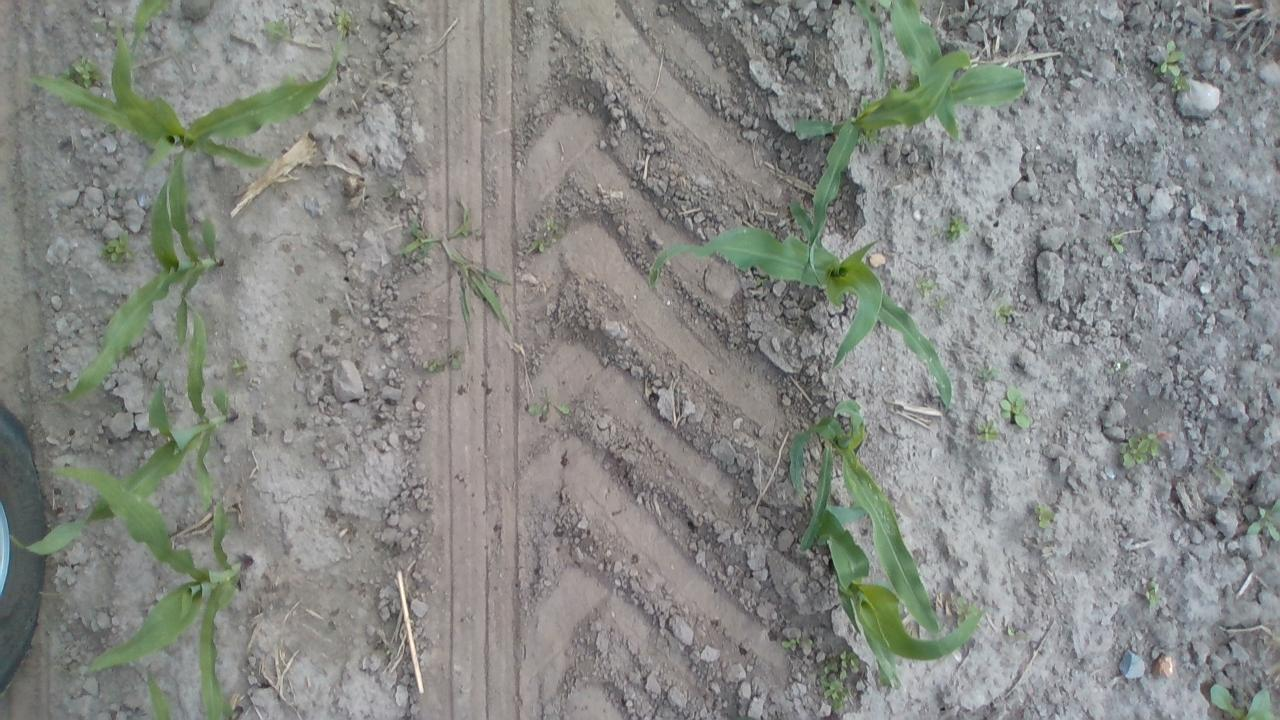Maize: (8, 302, 248, 558), (776, 401, 986, 685), (47, 164, 295, 404), (650, 223, 961, 411), (42, 466, 259, 717), (22, 25, 328, 200), (791, 0, 1026, 186)
Weeds: (395, 206, 521, 342), (815, 646, 862, 711), (1212, 677, 1277, 719), (1155, 37, 1192, 96), (1120, 434, 1170, 476), (522, 386, 572, 428), (1000, 381, 1032, 436), (916, 274, 958, 314), (525, 210, 559, 256), (1248, 504, 1280, 548), (61, 55, 103, 87), (936, 206, 967, 245), (97, 236, 136, 266), (1030, 502, 1062, 538), (1140, 582, 1172, 614), (424, 352, 466, 376), (261, 17, 295, 43), (979, 421, 1004, 456), (995, 302, 1024, 328), (779, 630, 802, 659), (228, 351, 248, 383), (1110, 229, 1132, 256)
